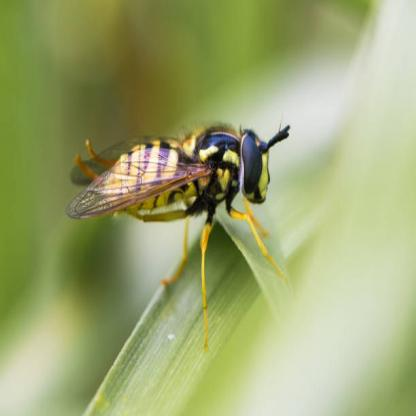sawfly: (65, 109, 300, 351)
